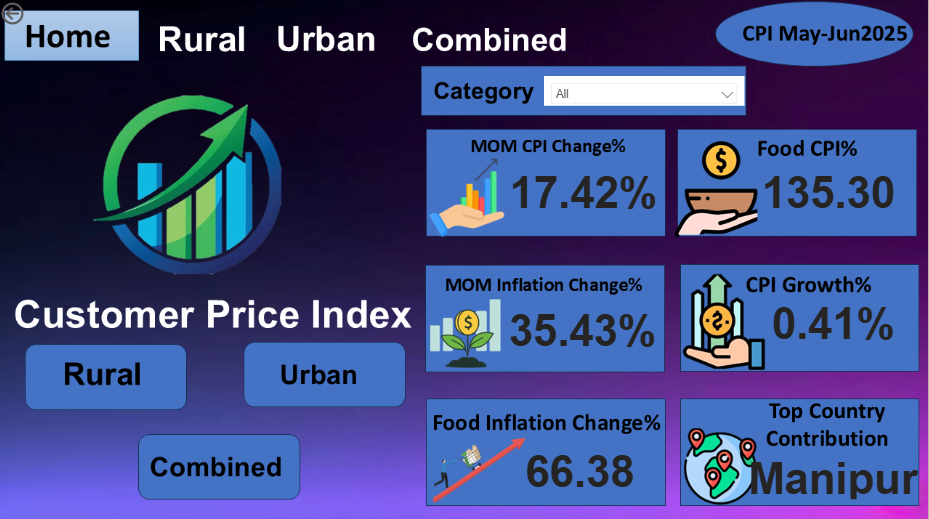

The page's visual inventory and layout, read from the dashboard file:
{"tool":"powerbi","page":{"name":"Home","canvas":[1280,720],"ordinal":0},"visuals":[{"type":"card","fields":{"Values":["Sum(Annex-I.MOM_Change%_Combined)"]},"box":[690.9,217.5,229.8,88.1],"z":0},{"type":"card","fields":{"Values":["Min(Annex-II.Combined_June_2025_CPI)"]},"box":[1041.2,211.7,204.5,98.7],"z":1000},{"type":"card","fields":{"Values":["Max(Annex-VII.MOM Inflation Change%)"]},"box":[689.3,400.4,230.3,103],"z":2000},{"type":"actionButton","box":[0,0,100,40],"z":3000},{"type":"card","fields":{"Values":["Min(Annex-VI.CPI Growth%)"]},"box":[1041.9,390.9,216.1,103.2],"z":4000},{"type":"card","fields":{"Values":["Sum(Annex-II.Combined_Inflation_Rate%)"]},"box":[689.8,597.6,222.6,97.1],"z":5000},{"type":"card","fields":{"Values":["Min(Annex-III.State/UT)"]},"box":[1026.7,617.3,244.7,77.5],"z":6000},{"type":"slicer","fields":{"Values":["Annex-II.Category"]},"box":[750.8,105.8,276,41.5],"z":7000},{"type":"actionButton","box":[207.4,20,148.7,64.4],"z":8000},{"type":"actionButton","box":[366.1,20,174.5,64.4],"z":9000},{"type":"actionButton","box":[563.5,20,237.4,64.4],"z":10000},{"type":"actionButton","box":[65.8,483.4,151.6,60.1],"z":11000},{"type":"actionButton","box":[366.1,483.4,138.7,60.1],"z":12000},{"type":"actionButton","box":[207.4,617.8,195.9,52.9],"z":13000}]}

Visuals, with their boxes in screenshot pixels (x1, y1, x2, y2), scaled from the page's 1280x720 canvas onto the 929x519 screenshot:
card - Sum(Annex-I.MOM_Change%_Combined): 501 157 668 220
card - Min(Annex-II.Combined_June_2025_CPI): 756 153 904 224
card - Max(Annex-VII.MOM Inflation Change%): 500 289 667 363
actionButton: 0 0 73 29
card - Min(Annex-VI.CPI Growth%): 756 282 913 356
card - Sum(Annex-II.Combined_Inflation_Rate%): 501 431 662 501
card - Min(Annex-III.State/UT): 745 445 923 501
slicer - Annex-II.Category: 545 76 745 106
actionButton: 151 14 258 61
actionButton: 266 14 392 61
actionButton: 409 14 581 61
actionButton: 48 348 158 392
actionButton: 266 348 366 392
actionButton: 151 445 293 483
